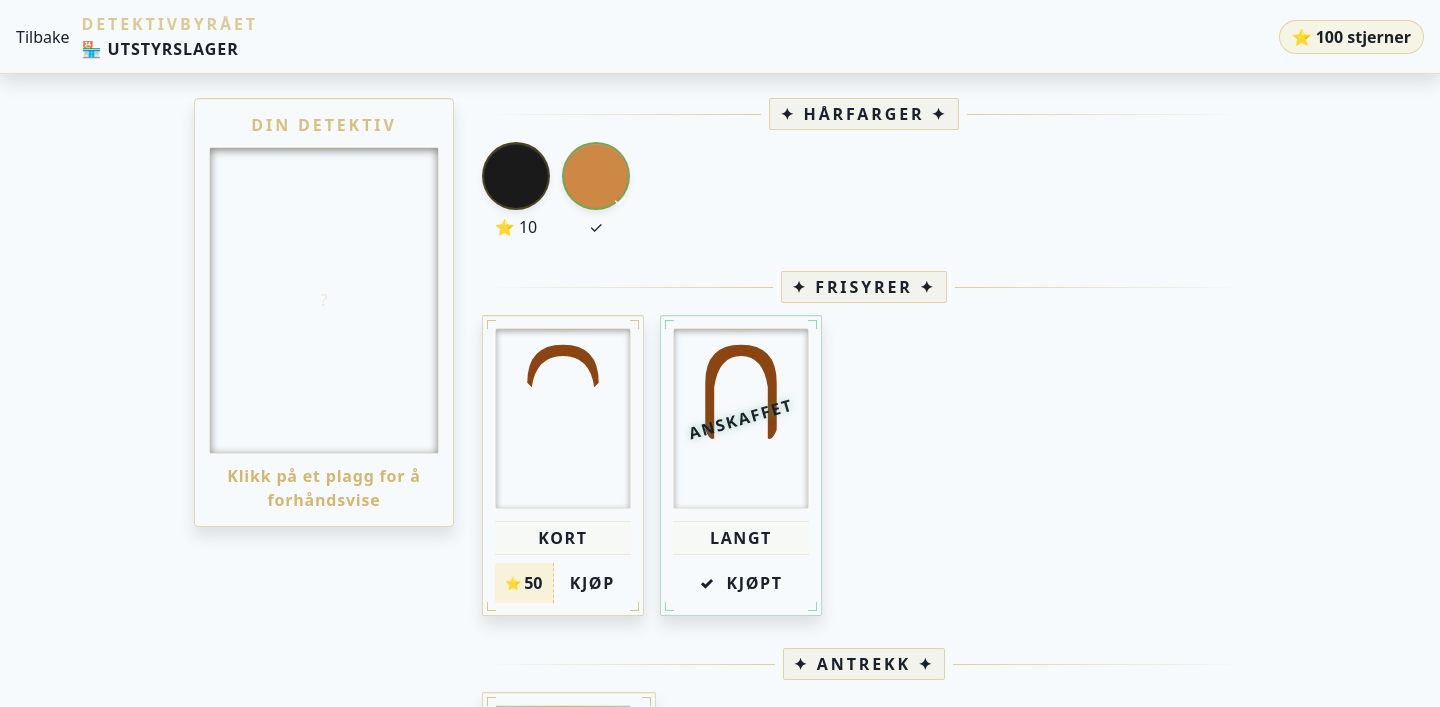
Test: ShopView › clicking ticket shows confirm buttons
Click the element with class "shop-ticket".
click(524, 583)  # box [495,563,631,603]
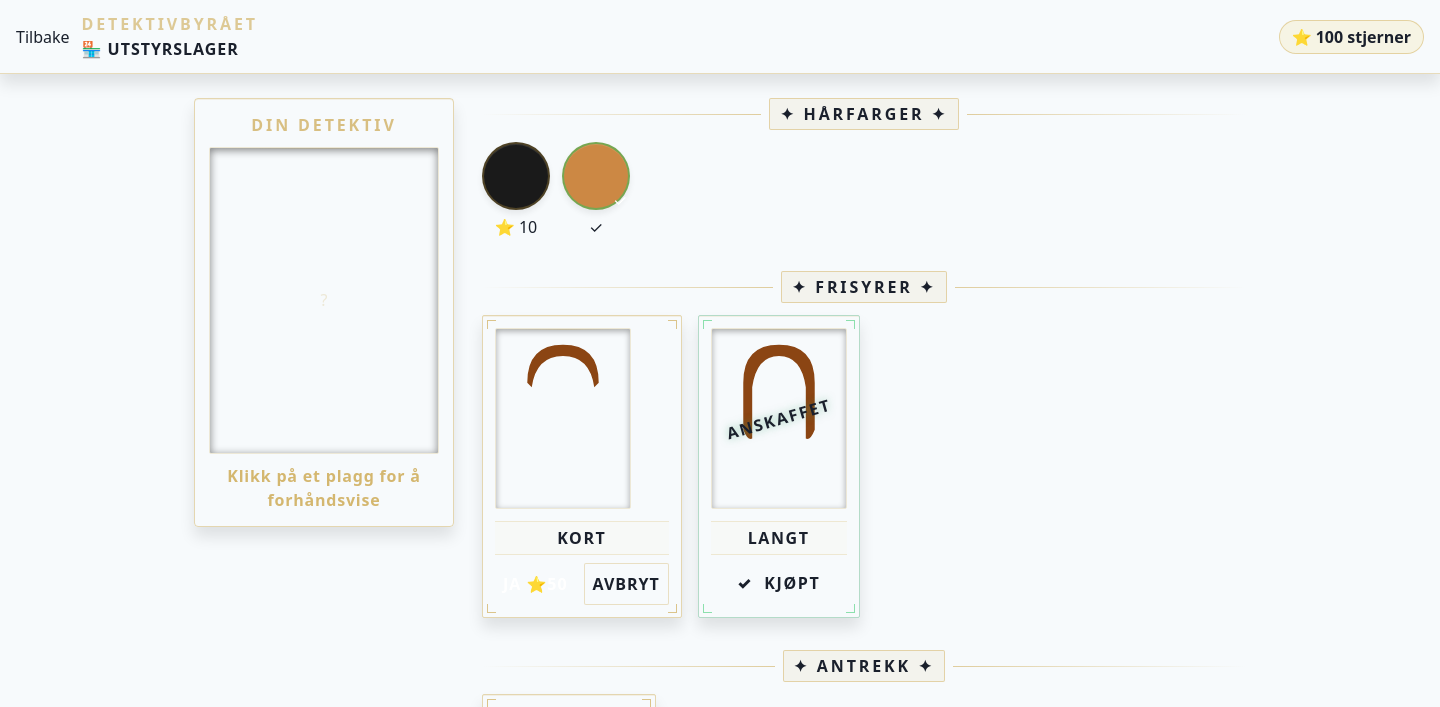
Now the button with class "shop-confirm__yes" is shown, box [495,563,576,605]
Now the button with class "shop-confirm__no" is shown, box [584,563,669,605]
